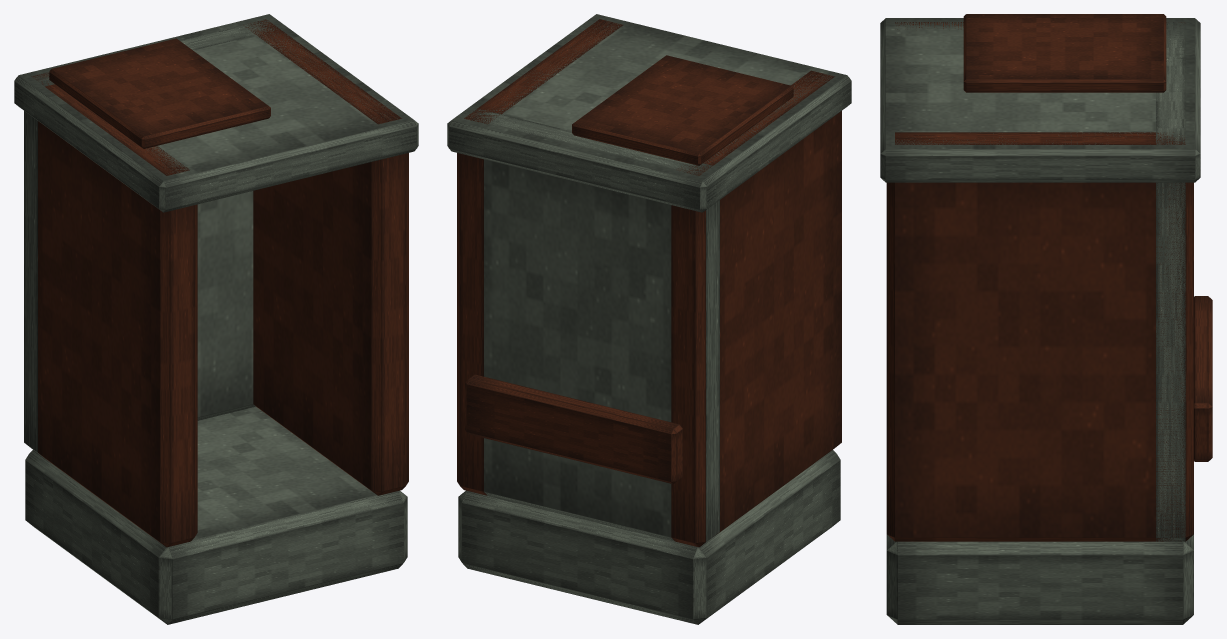
Rendered from THStage_FindSupport_16.fbx.
3 renders of one model, left to right at view 1: azimuth 30°, elevation 25°; view 2: azimuth 150°, elevation 25°; view 3: azimuth 270°, elevation 25°, orthographic. The views are drawn at different scales.
Visible parts, largest first — view 1: THStage_FindSupport_16.013; view 2: THStage_FindSupport_16.013; view 3: THStage_FindSupport_16.013.
Boxes of the visible parts, x1,y1,x2,y2 form: THStage_FindSupport_16.013: (14, 14, 418, 624); THStage_FindSupport_16.013: (447, 14, 851, 624); THStage_FindSupport_16.013: (880, 14, 1212, 624).
Bounding box in the file's own units: 0.344 × 0.586 × 0.357.
Materials: 1 (1 with a texture image).
